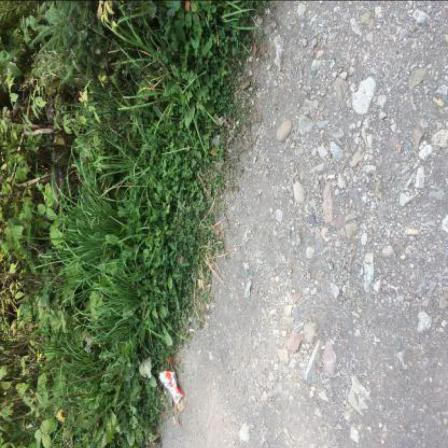Cigarette: (329, 175, 336, 180)
Plastic bag - wrapper: (161, 359, 185, 405)
